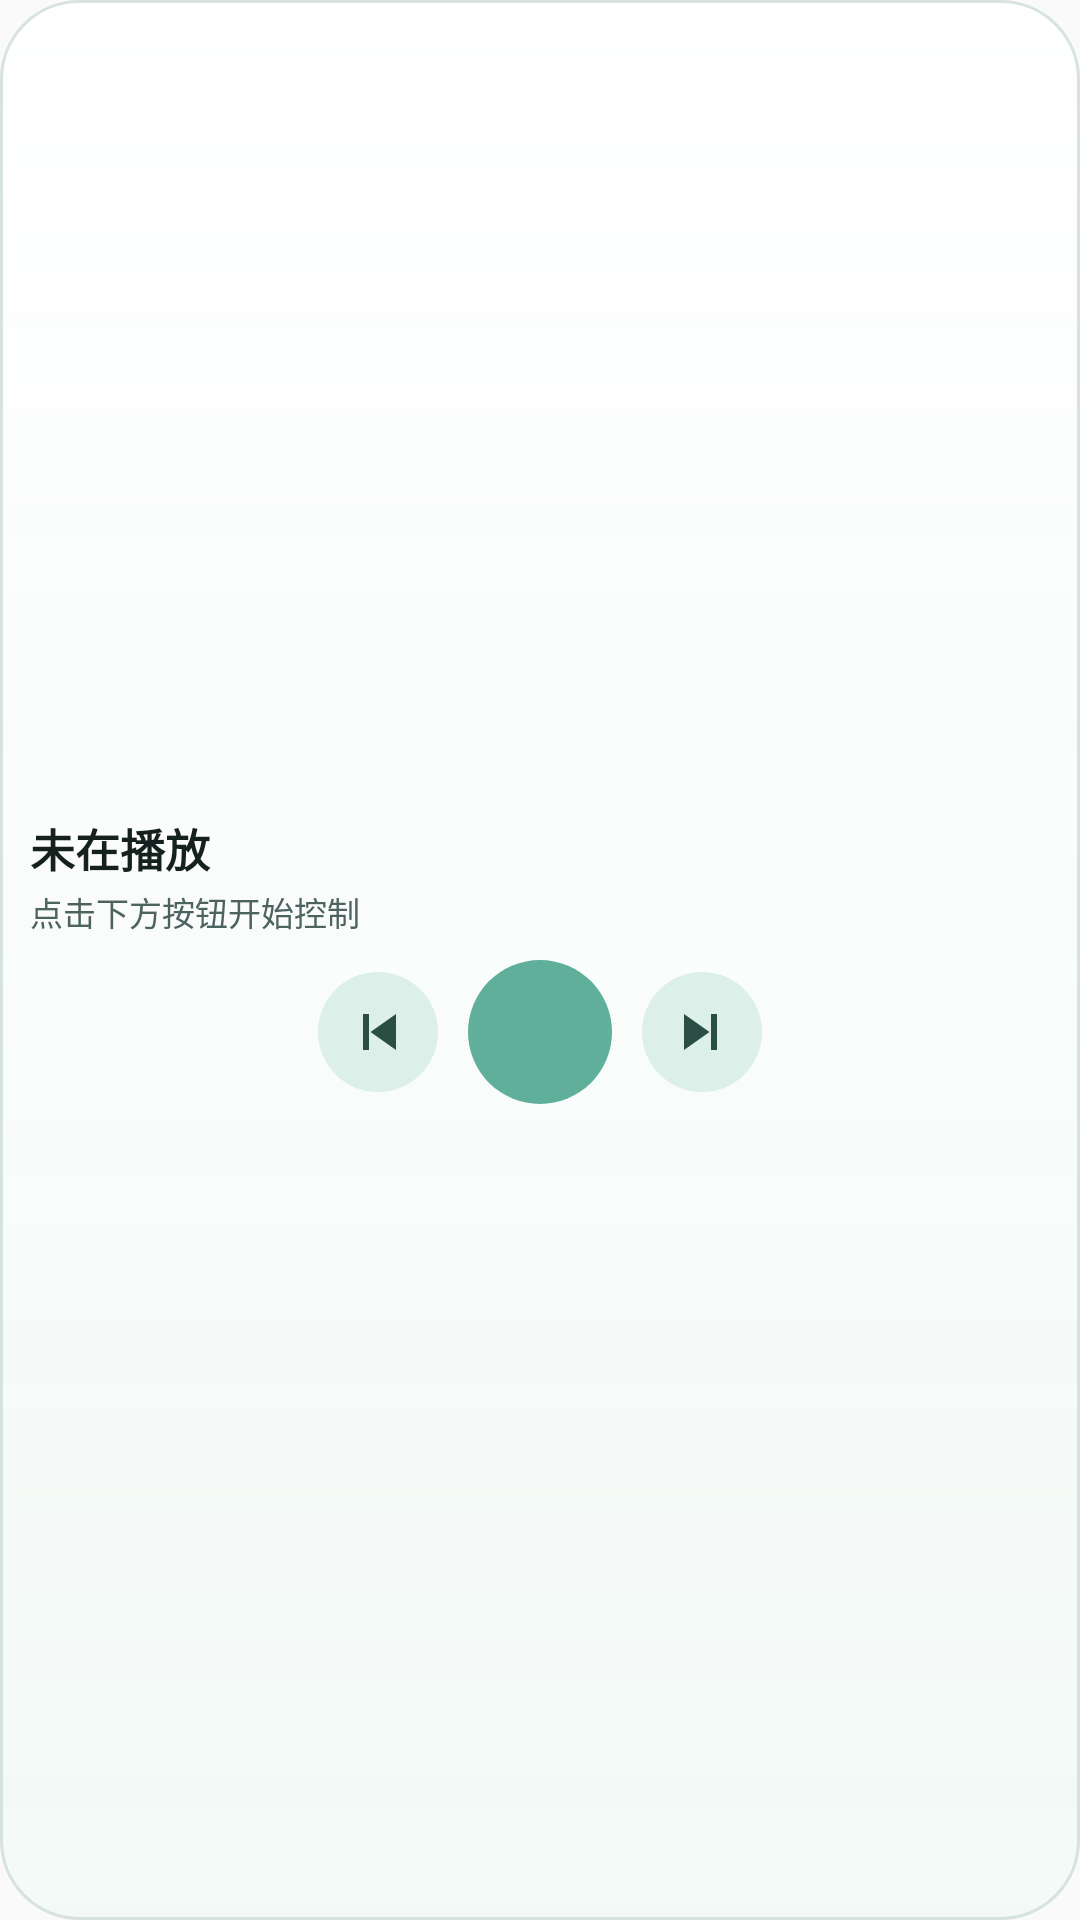

Screen size 1080w x 1920h. Icon name, then its box in pixels as (x1, y1, x2, y2):
上一首: (318, 972, 438, 1092)
下一首: (642, 972, 762, 1092)
